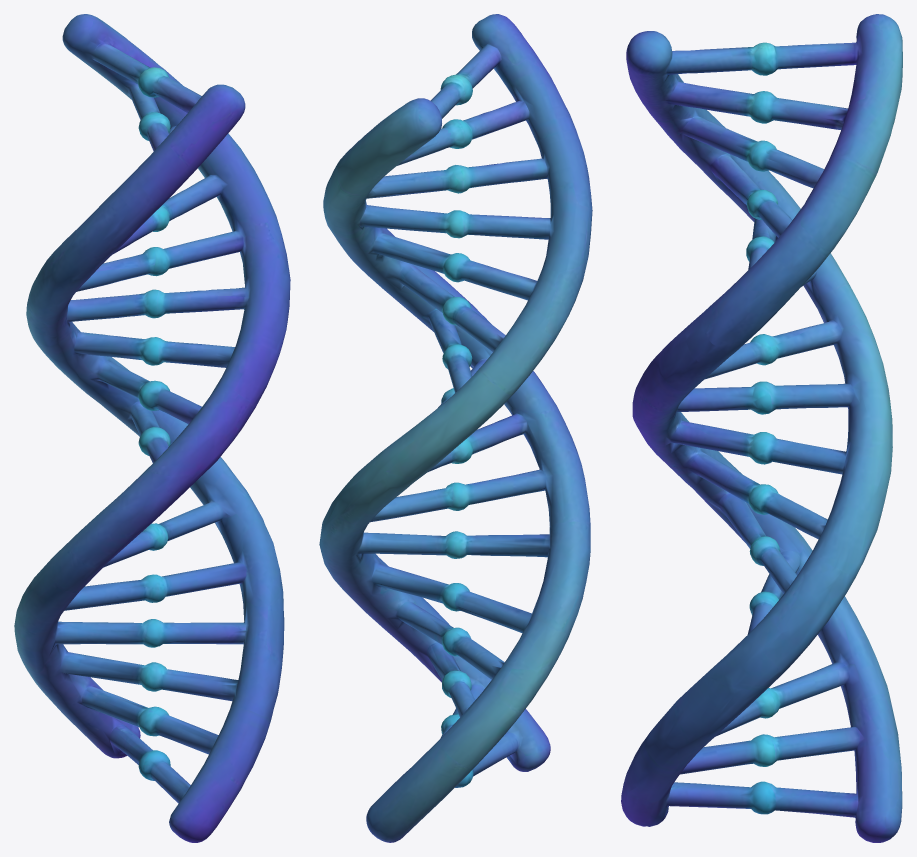
File: dna.glb
3 views of the same model, side by side, from view 1: azimuth 30°, elevation 25°; view 2: azimuth 150°, elevation 25°; view 3: azimuth 270°, elevation 25° (orthographic). The views are drawn at different scales.
Parts seen in each view (by area): view 1: tripo_node_f4d6c025-5914-460a-a20a-091604505143; view 2: tripo_node_f4d6c025-5914-460a-a20a-091604505143; view 3: tripo_node_f4d6c025-5914-460a-a20a-091604505143.
Part boxes in pixels (<box>): tripo_node_f4d6c025-5914-460a-a20a-091604505143: <box>14,14,290,842</box>; tripo_node_f4d6c025-5914-460a-a20a-091604505143: <box>319,14,592,842</box>; tripo_node_f4d6c025-5914-460a-a20a-091604505143: <box>621,14,902,842</box>.
Size of the model in its own units: 0.3315 by 0.9802 by 0.3091.
Materials: 1 (1 with a texture image).
